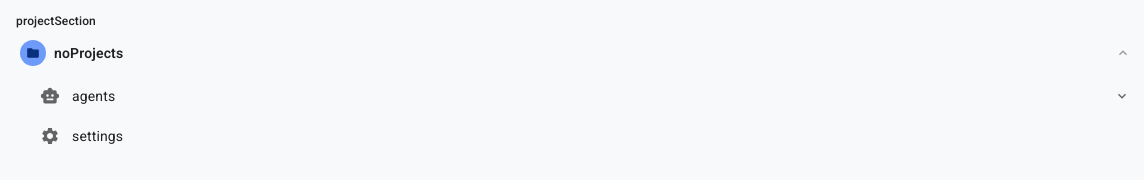
ProjectSwitcher, project menu › shows an empty state when the org has no projects
Click the button named "switchProject" at [33, 53], box left=16, top=36, right=50, bottom=70
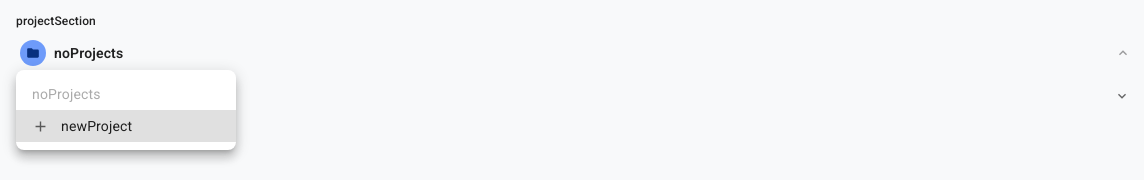
Expected: the text "noProjects" is shown, left=32, top=84, right=101, bottom=104
Expected: the number of menu items is 2, left=32, top=86, right=101, bottom=102; left=16, top=110, right=236, bottom=142
